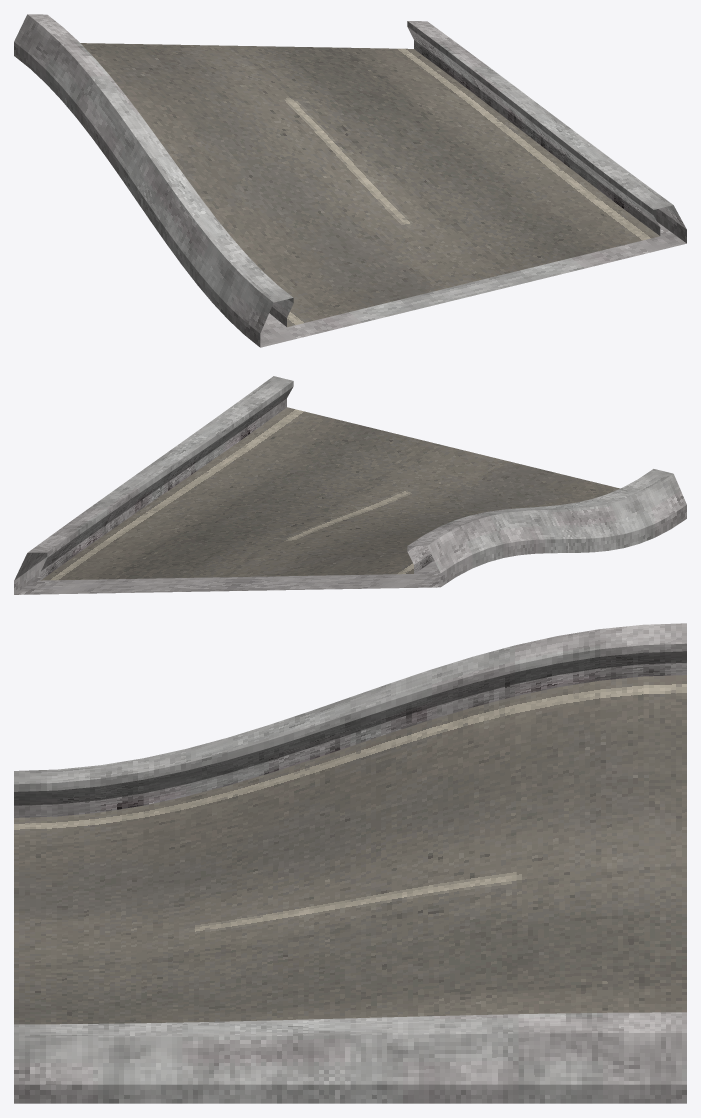
Rendered from road-Straight-Flat-HalfBankedRight-Even-Center-Size1.glb.
3 views of the same model, one above another, from view 1: azimuth 30°, elevation 25°; view 2: azimuth 150°, elevation 25°; view 3: azimuth 270°, elevation 25° (orthographic). The views are drawn at different scales.
Visible parts, largest first — view 1: road-Straight-Flat-HalfBankedRight-Even-Center-Size1; view 2: road-Straight-Flat-HalfBankedRight-Even-Center-Size1; view 3: road-Straight-Flat-HalfBankedRight-Even-Center-Size1.
Boxes of the visible parts, x1,y1,x2,y2 form: road-Straight-Flat-HalfBankedRight-Even-Center-Size1: (14, 14, 686, 347); road-Straight-Flat-HalfBankedRight-Even-Center-Size1: (14, 376, 686, 594); road-Straight-Flat-HalfBankedRight-Even-Center-Size1: (14, 623, 686, 1103).
Size of the model in its own units: 1 by 0.3359 by 1.
2 materials, 2 textured.
